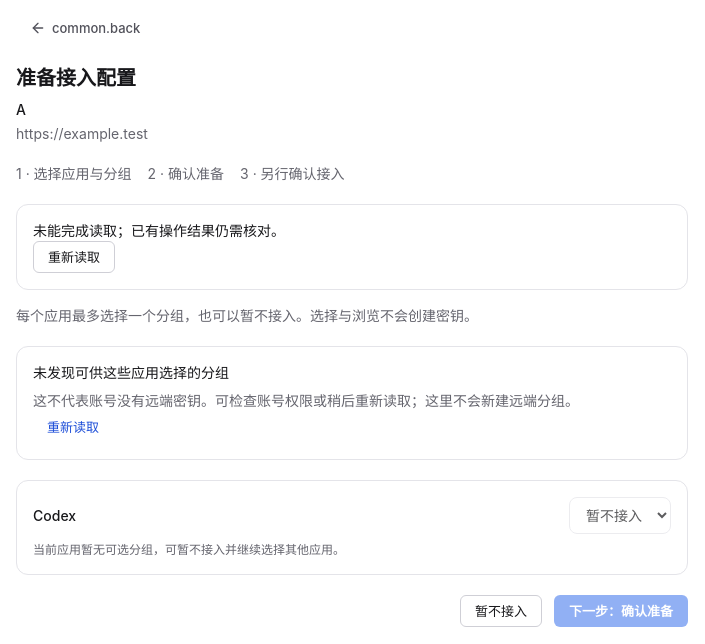
relay finish and recovered setup ownership › does not exit a recovered operation when a pending skip completes
expect the text "未能完成读取；已有操作结果仍需核对。" is shown: met, box [33,222,285,239]
Click the button "暂不接入": click(501, 611) [460,595,542,627]
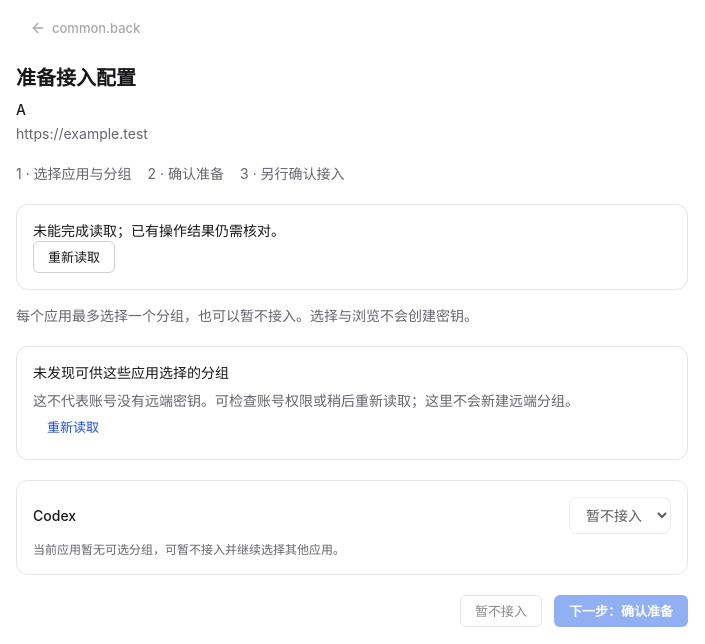
Click the button "重新读取" below "未能完成读取；已有操作结果仍需核对。": click(74, 257) [33,241,115,273]
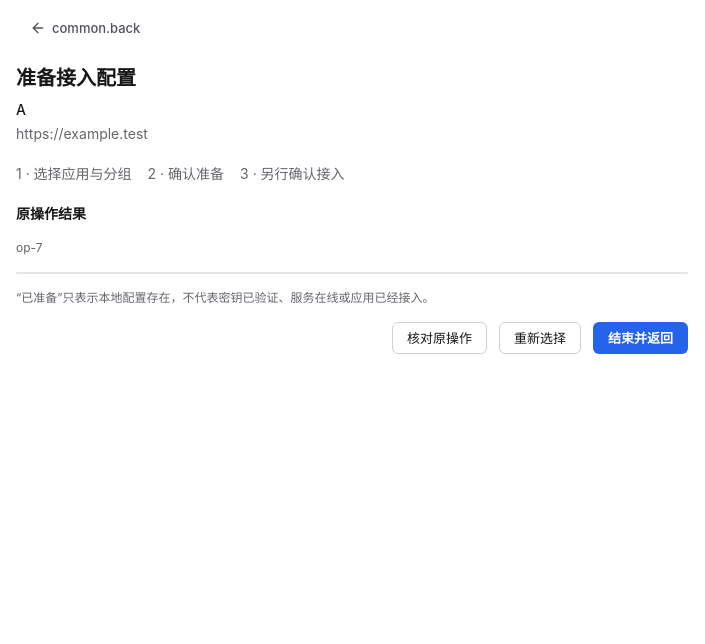
expect the text "op-7" is shown: met, box [16,240,43,255]
